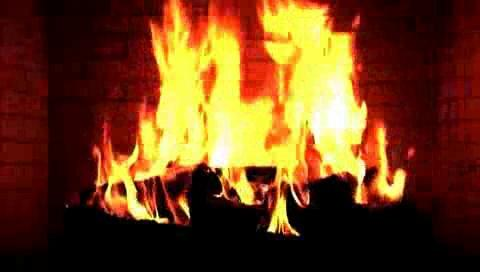fire: (120, 14, 387, 207)
